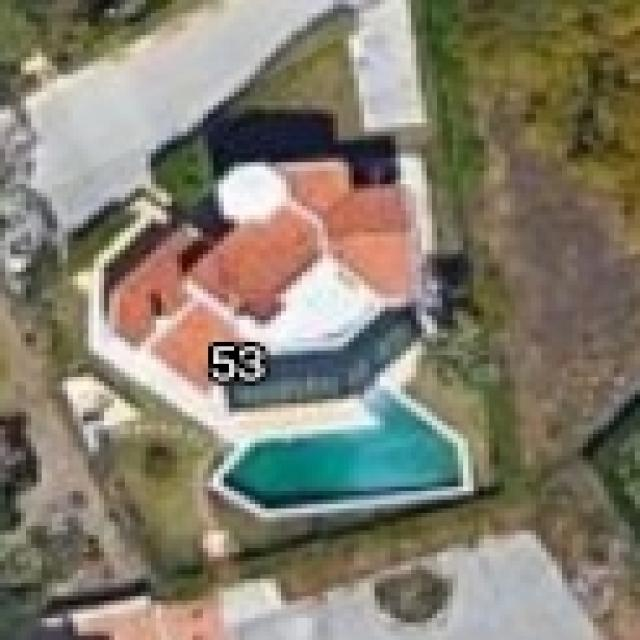swimming pool: (219, 382, 463, 508)
